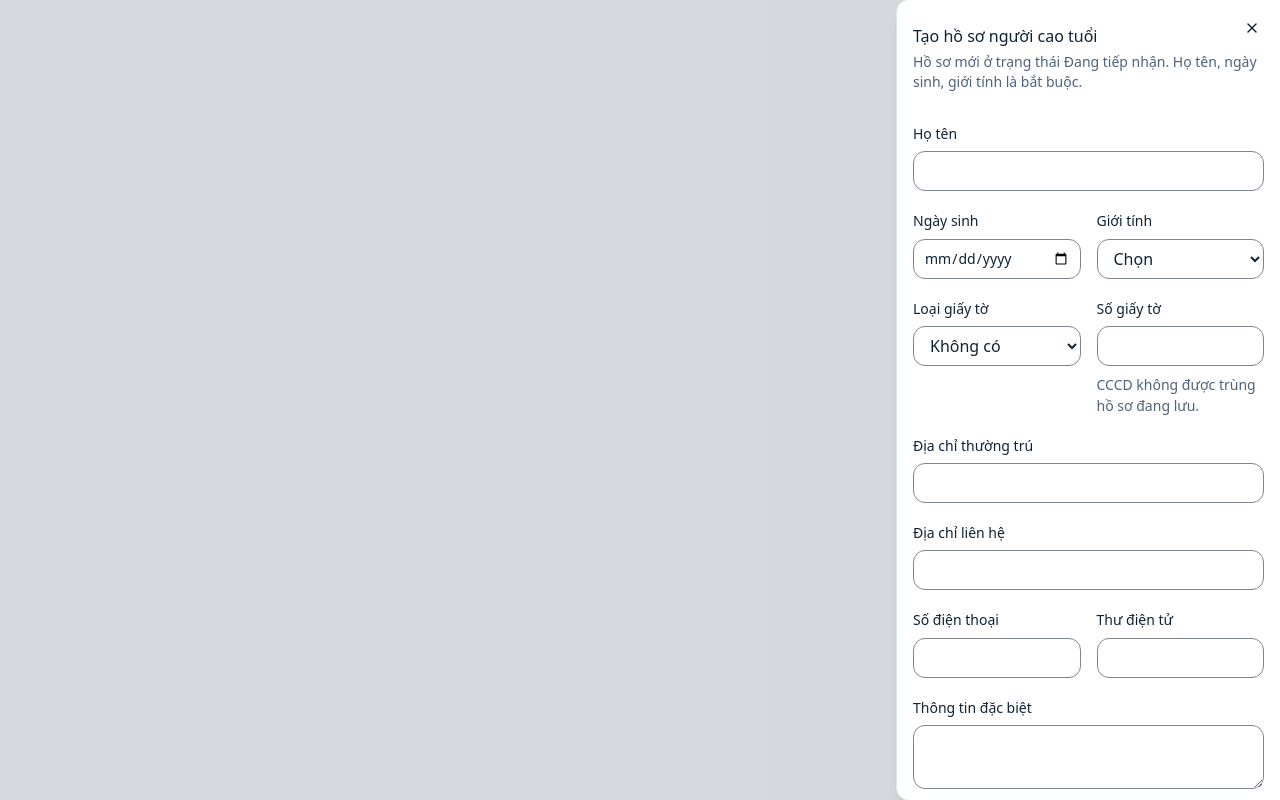
Test: CreateResident › cảnh báo CCCD trùng hồ sơ đã qua đời hiện sau khi tạo
The width and height of the screenshot is (1280, 800).
Type "Nguyễn Văn An" into the field labelled "Họ tên".
click(1088, 171); type("Nguyễn Văn An")  # box [913, 151, 1264, 191]
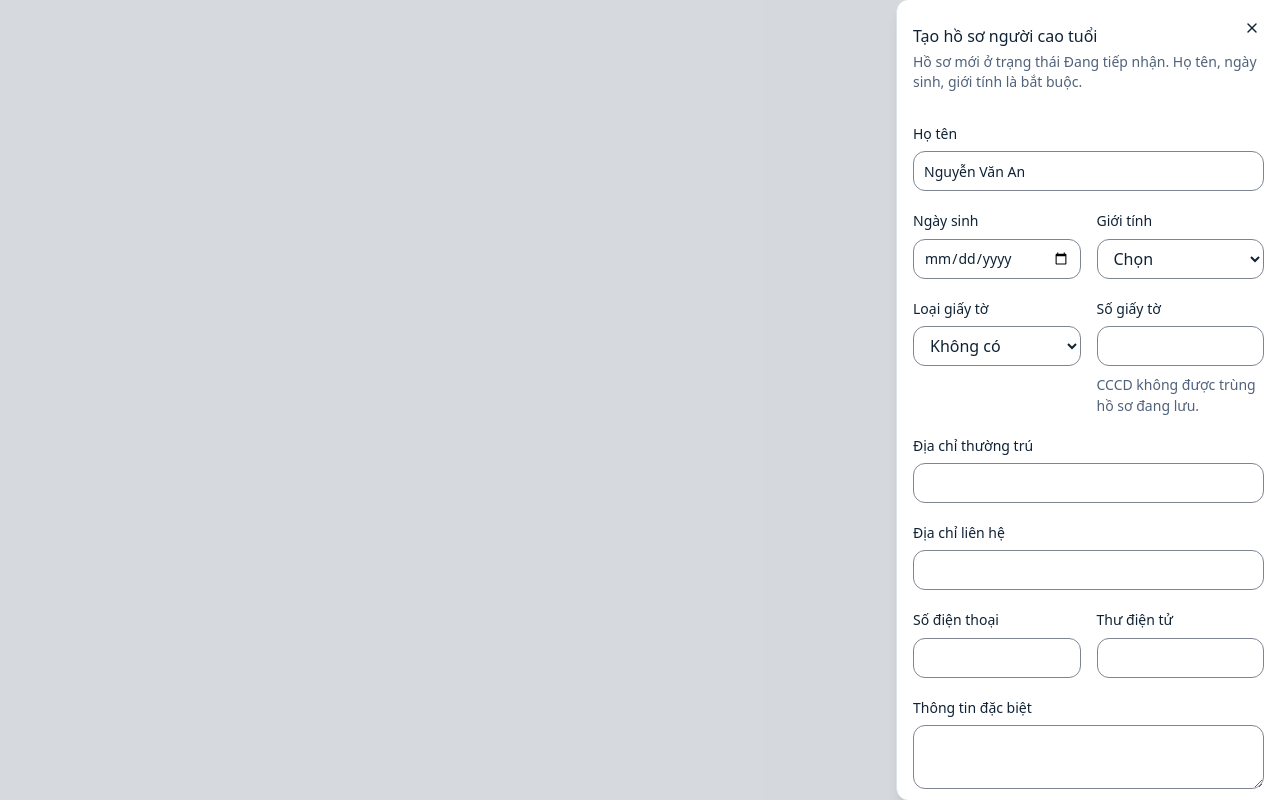
Type "1948-03-14" into the date field labelled "Ngày sinh".
click(997, 258); type("1948-03-14")  # box [913, 238, 1080, 278]
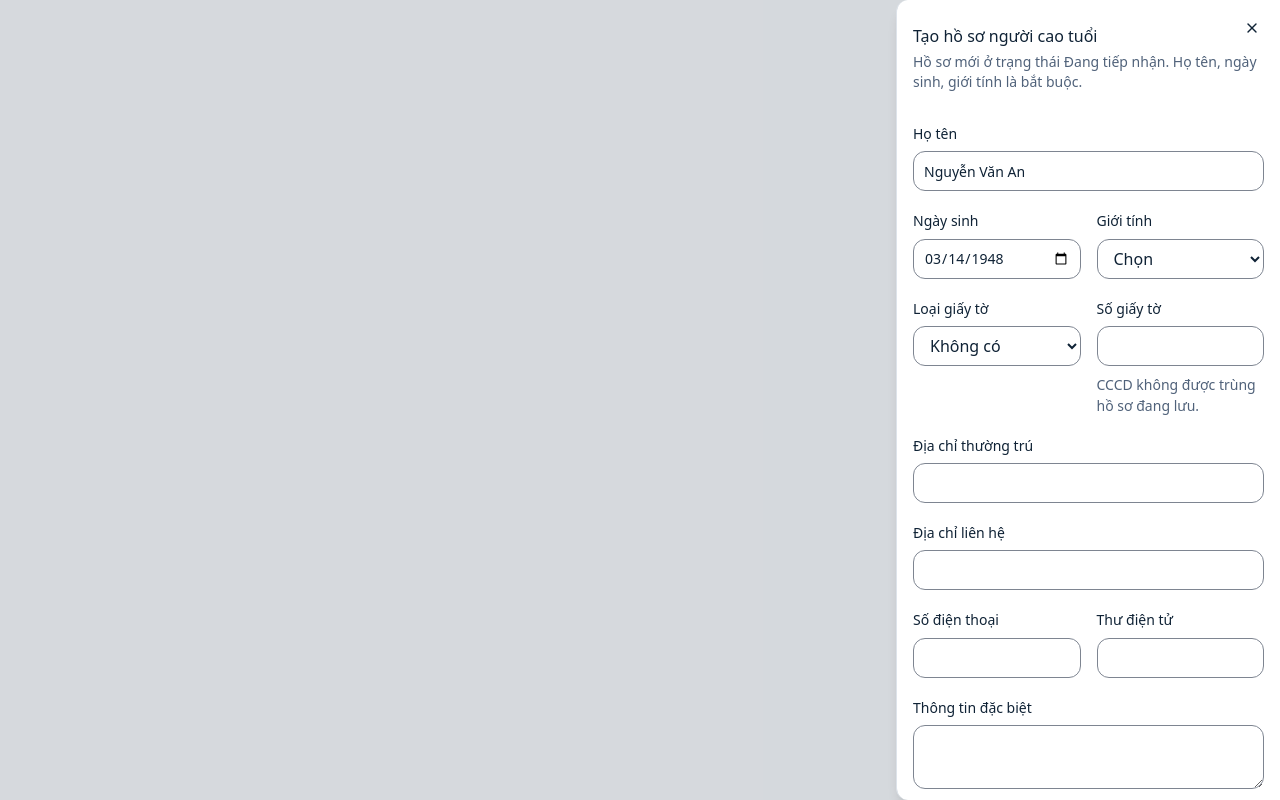
Select "Nam" in the dropdown labelled "Giới tính" at [1180, 258], box [1096, 238, 1264, 278]
(page scrolled)
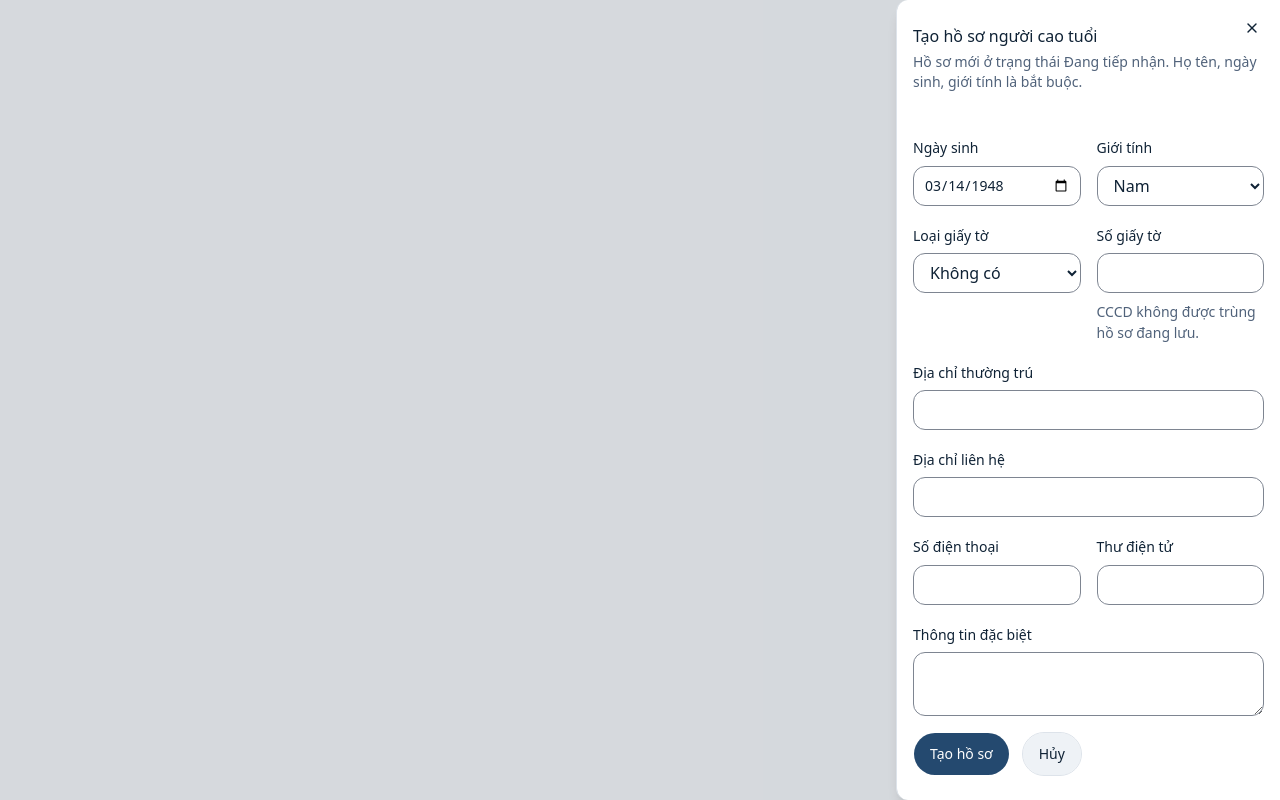
Click the button "Tạo hồ sơ".
click(961, 754)  # box [913, 732, 1010, 776]
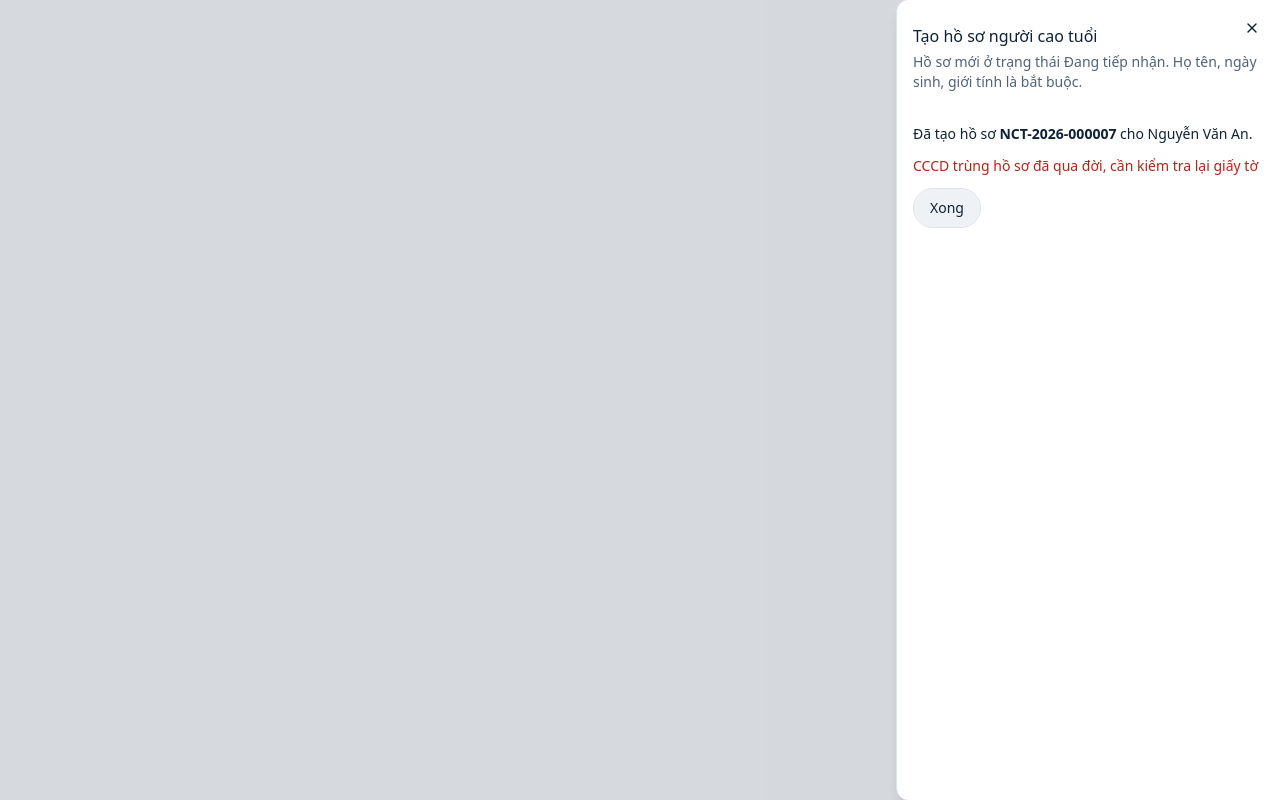
Now the text "CCCD trùng hồ sơ đã qua đời, cần kiểm tra lại giấy tờ" is shown, box [913, 156, 1264, 176]
